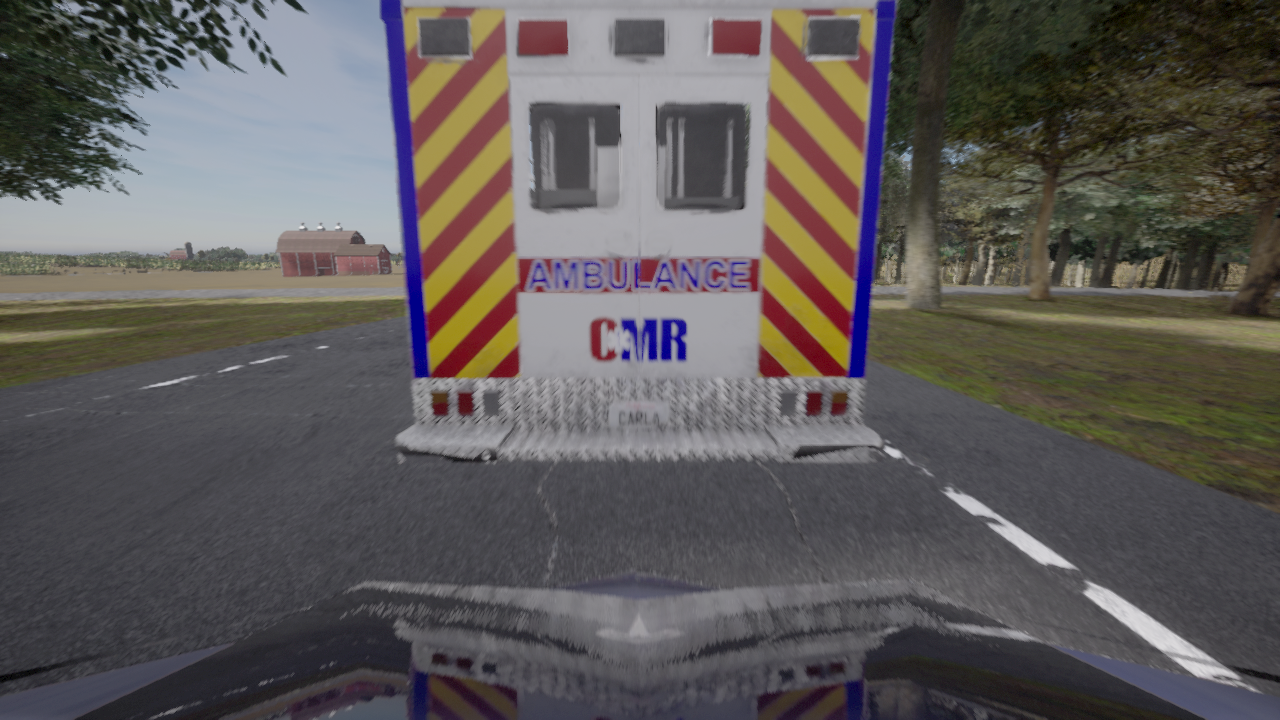cyclist: (379, 0, 896, 464), (0, 569, 1279, 719)
